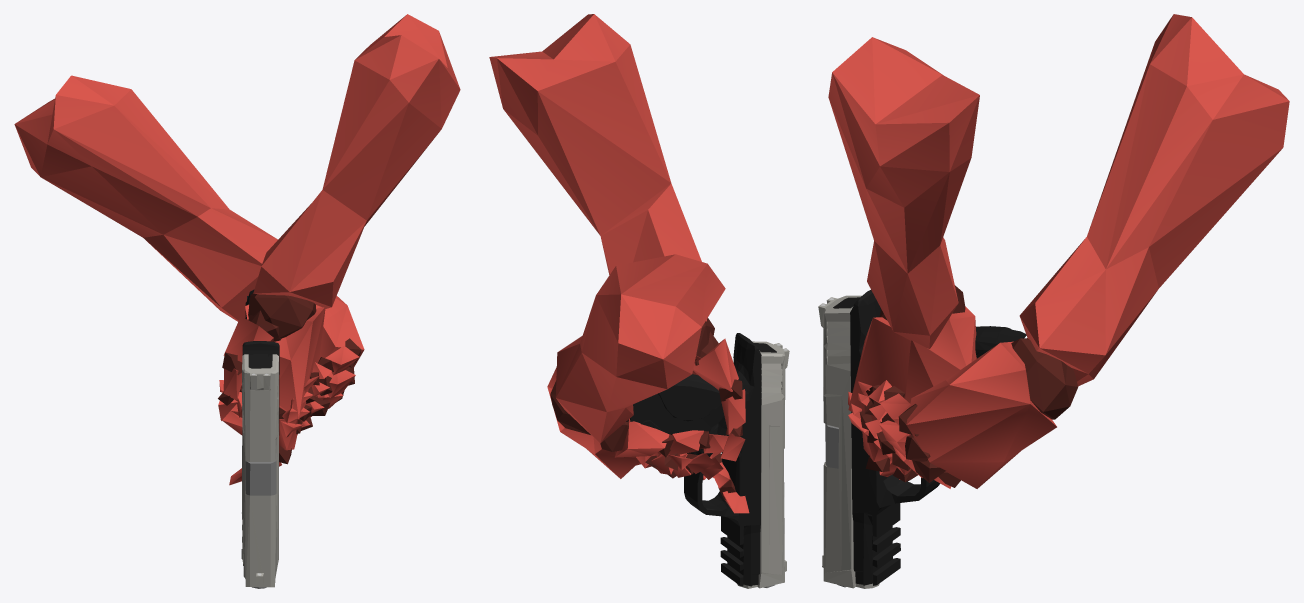
The model's file is M&P9shootExtendLowPoly_000017.obj.
The picture shows the model from 3 angles, left to right: view 1: azimuth 30°, elevation 25°; view 2: azimuth 150°, elevation 25°; view 3: azimuth 270°, elevation 25°; orthographic projection. The views are drawn at different scales.
Parts seen in each view (by area): view 1: Beta_Surface, slide_平面.002, Beta_Joints, barrel_円.001, body_平面; view 2: Beta_Surface, body_平面, slide_平面.002, Beta_Joints; view 3: Beta_Surface, body_平面, slide_平面.002, Beta_Joints, barrel_円.001.
Part boxes in pixels (x1,y1,x2,y2): Beta_Surface: (14, 14, 460, 485); slide_平面.002: (242, 354, 278, 587); Beta_Joints: (218, 292, 361, 464); barrel_円.001: (245, 460, 276, 588); body_平面: (241, 289, 279, 565); Beta_Surface: (489, 14, 749, 513); body_平面: (630, 333, 761, 586); slide_平面.002: (737, 341, 789, 588); Beta_Joints: (550, 318, 742, 500); Beta_Surface: (828, 14, 1289, 488); body_平面: (850, 290, 1026, 585); slide_平面.002: (818, 295, 879, 588); Beta_Joints: (859, 285, 1078, 487); barrel_円.001: (825, 424, 846, 587).
Size of the model in its own units: 46.82 by 74.49 by 49.86.
